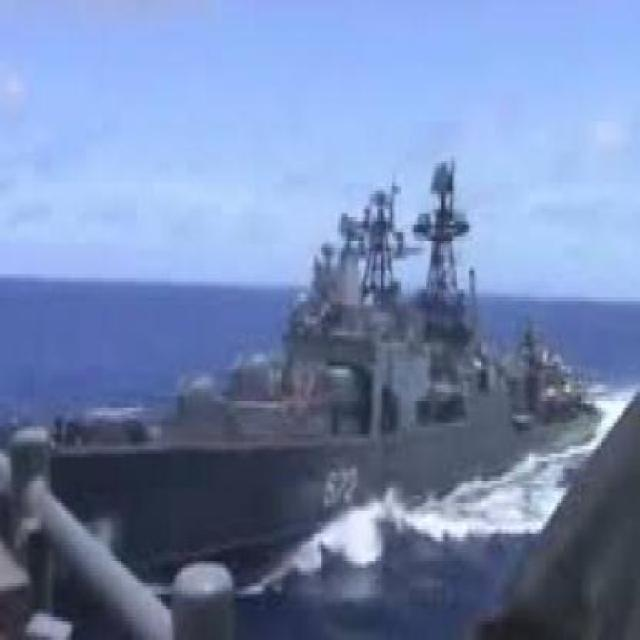warship2: (54, 81, 594, 569)
